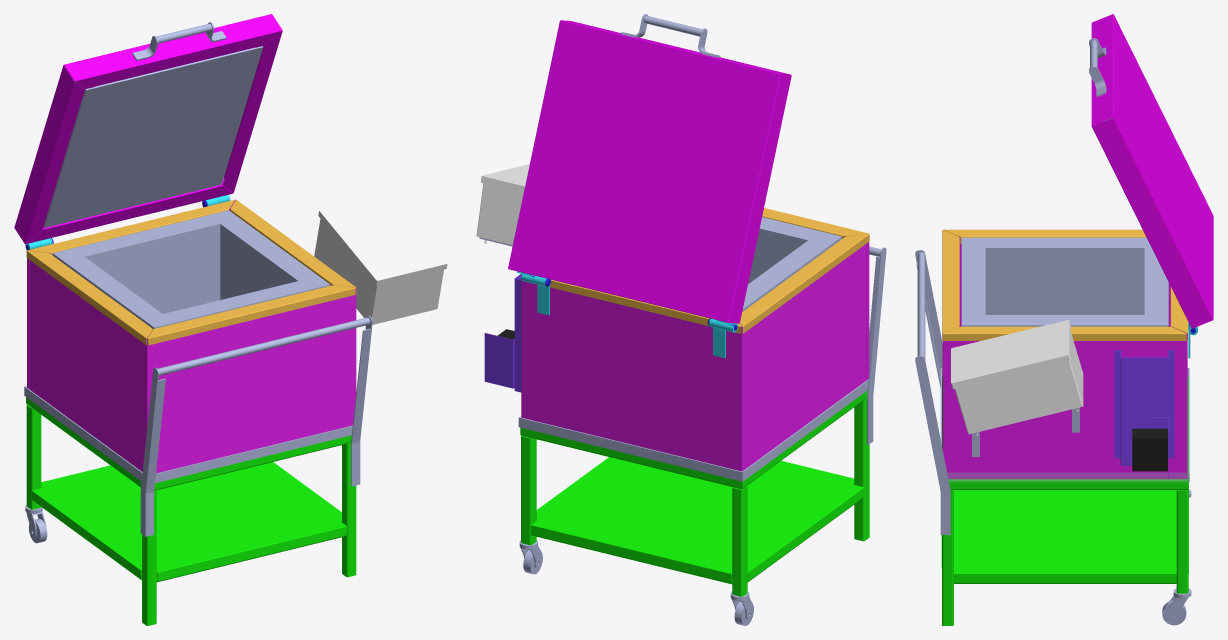
The model's file is horno-55lts.glb.
The picture shows the model from 3 angles, left to right: view 1: azimuth 30°, elevation 25°; view 2: azimuth 150°, elevation 25°; view 3: azimuth 270°, elevation 25°; orthographic projection. The views are drawn at different scales.
Visible parts, largest first — view 1: Shape_IndexedFaceSet.150, Shape_IndexedFaceSet.172, Shape_IndexedFaceSet.145, Shape_IndexedFaceSet.118, Shape_IndexedFaceSet.048, Shape_IndexedFaceSet.029, Shape_IndexedFaceSet.031, Shape_IndexedFaceSet.146, Shape_IndexedFaceSet.033, Shape_IndexedFaceSet.023, Shape_IndexedFaceSet.143, Shape_IndexedFaceSet.116 (+30 smaller); view 2: Shape_IndexedFaceSet.118, Shape_IndexedFaceSet.150, Shape_IndexedFaceSet.172, Shape_IndexedFaceSet.145, Shape_IndexedFaceSet.048, Shape_IndexedFaceSet.143, Shape_IndexedFaceSet.175, Shape_IndexedFaceSet.035, Shape_IndexedFaceSet.163, Shape_IndexedFaceSet.158, Shape_IndexedFaceSet.162, Shape_IndexedFaceSet.060 (+10 smaller); view 3: Shape_IndexedFaceSet.172, Shape_IndexedFaceSet.118, Shape_IndexedFaceSet.147, Shape_IndexedFaceSet.048, Shape_IndexedFaceSet.151, Shape_IndexedFaceSet.030, Shape_IndexedFaceSet.032, Shape_IndexedFaceSet.148, Shape_IndexedFaceSet.157, Shape_IndexedFaceSet.025, Shape_IndexedFaceSet.170, Shape_IndexedFaceSet.062 (+18 smaller).
Part boxes in pixels (x1,y1,x2,y2): Shape_IndexedFaceSet.150: (27,199,356,473); Shape_IndexedFaceSet.172: (31,462,346,577); Shape_IndexedFaceSet.145: (29,260,144,471); Shape_IndexedFaceSet.118: (14,14,282,244); Shape_IndexedFaceSet.048: (314,193,447,324); Shape_IndexedFaceSet.029: (151,210,240,278); Shape_IndexedFaceSet.031: (73,229,162,287); Shape_IndexedFaceSet.146: (147,285,355,345); Shape_IndexedFaceSet.033: (220,219,284,290); Shape_IndexedFaceSet.023: (142,264,220,313); Shape_IndexedFaceSet.143: (26,250,152,345); Shape_IndexedFaceSet.116: (195,48,252,119); Shape_IndexedFaceSet.118: (508,20,791,323); Shape_IndexedFaceSet.150: (521,236,869,471); Shape_IndexedFaceSet.172: (531,457,864,579); Shape_IndexedFaceSet.145: (745,244,866,469); Shape_IndexedFaceSet.048: (476,164,529,245); Shape_IndexedFaceSet.143: (740,233,869,333); Shape_IndexedFaceSet.175: (518,417,741,481); Shape_IndexedFaceSet.035: (751,217,841,272); Shape_IndexedFaceSet.163: (854,398,869,541); Shape_IndexedFaceSet.158: (520,427,742,489); Shape_IndexedFaceSet.162: (732,485,747,596); Shape_IndexedFaceSet.060: (867,247,886,444); Shape_IndexedFaceSet.172: (941,482,1188,579); Shape_IndexedFaceSet.118: (1091,14,1213,328); Shape_IndexedFaceSet.147: (948,341,1182,479); Shape_IndexedFaceSet.048: (951,319,1083,434); Shape_IndexedFaceSet.151: (1114,350,1174,465); Shape_IndexedFaceSet.030: (985,237,1076,289); Shape_IndexedFaceSet.032: (1077,237,1151,289); Shape_IndexedFaceSet.148: (943,326,1186,340); Shape_IndexedFaceSet.157: (948,479,1188,489); Shape_IndexedFaceSet.025: (1053,289,1144,314); Shape_IndexedFaceSet.170: (947,473,1188,481); Shape_IndexedFaceSet.062: (915,356,950,534).
Bounding box in the file's own units: 5.56 × 8.89 × 4.59.
